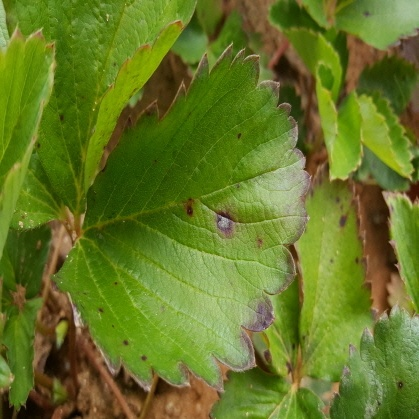Leaf_Spot: (76, 41, 370, 394), (76, 0, 418, 219), (39, 158, 307, 384), (0, 189, 417, 315), (0, 302, 328, 418), (0, 0, 375, 49), (116, 274, 292, 377)
